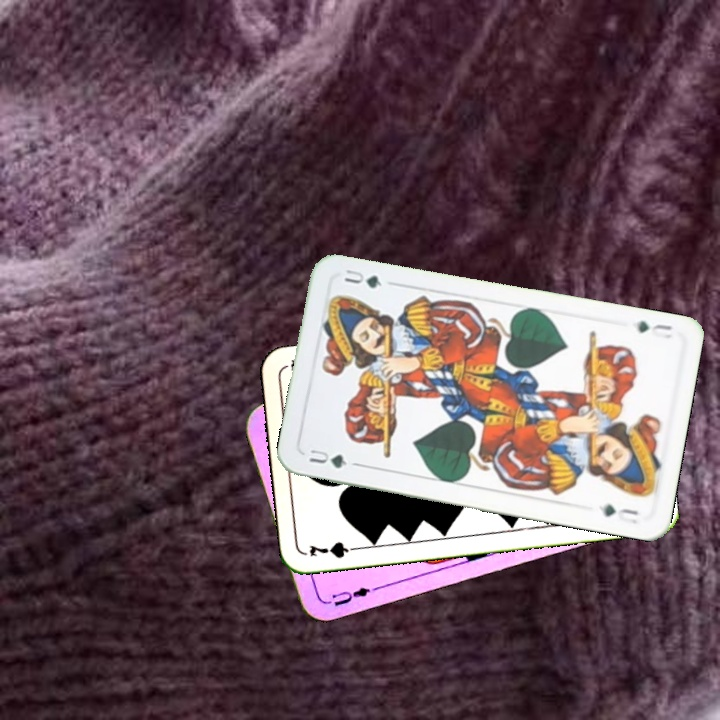EU: (328, 583, 379, 609)
G7: (305, 537, 364, 561)
GU: (305, 445, 350, 471), (633, 316, 675, 341)
